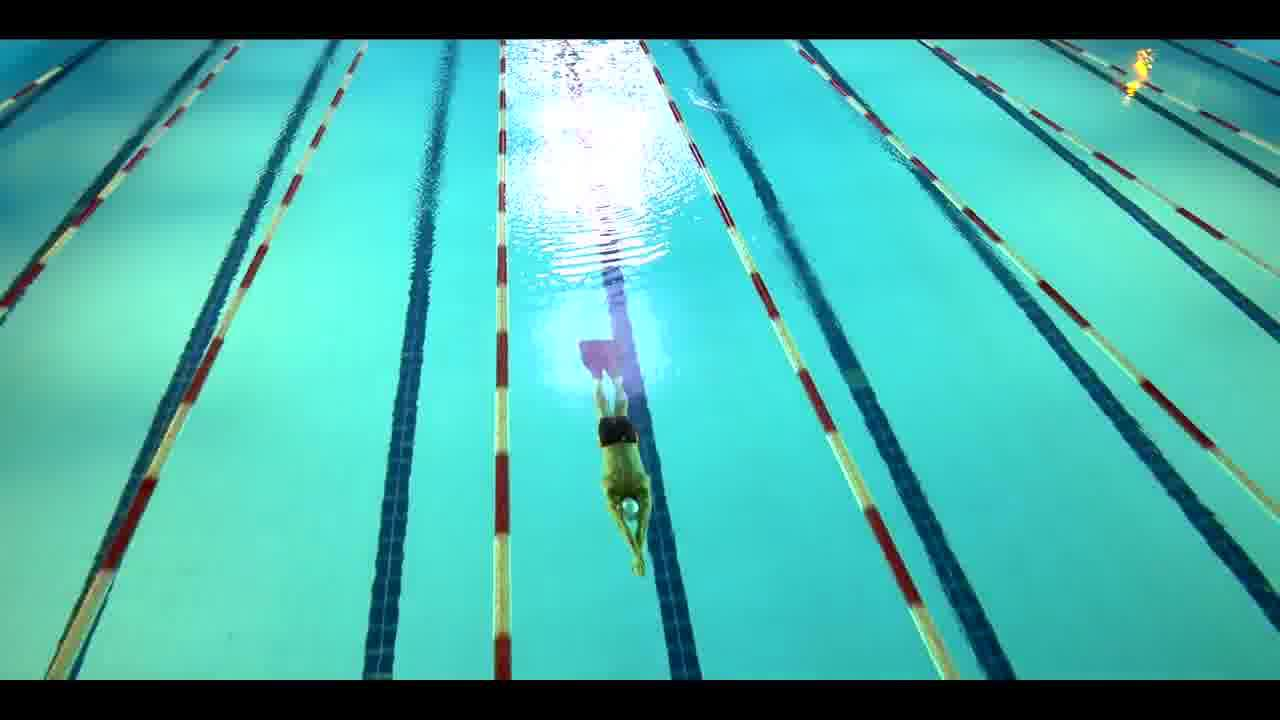human: (576, 344, 661, 581)
